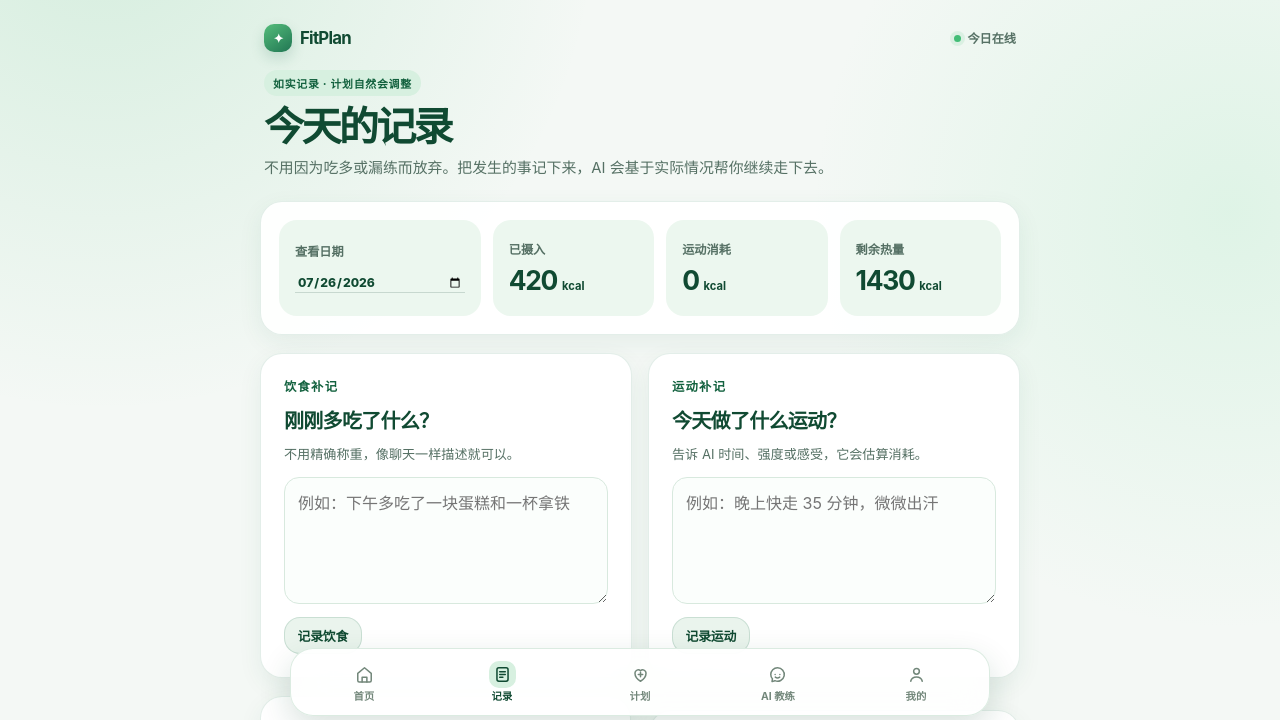
Test: RecordsPage › adds an exercise from natural language and refreshes the daily totals
The image size is (1280, 720).
Type "晚上快走 35 分钟" into the text box named "补充运动记录".
click(834, 541); type("晚上快走 35 分钟")  # box [672, 477, 996, 604]
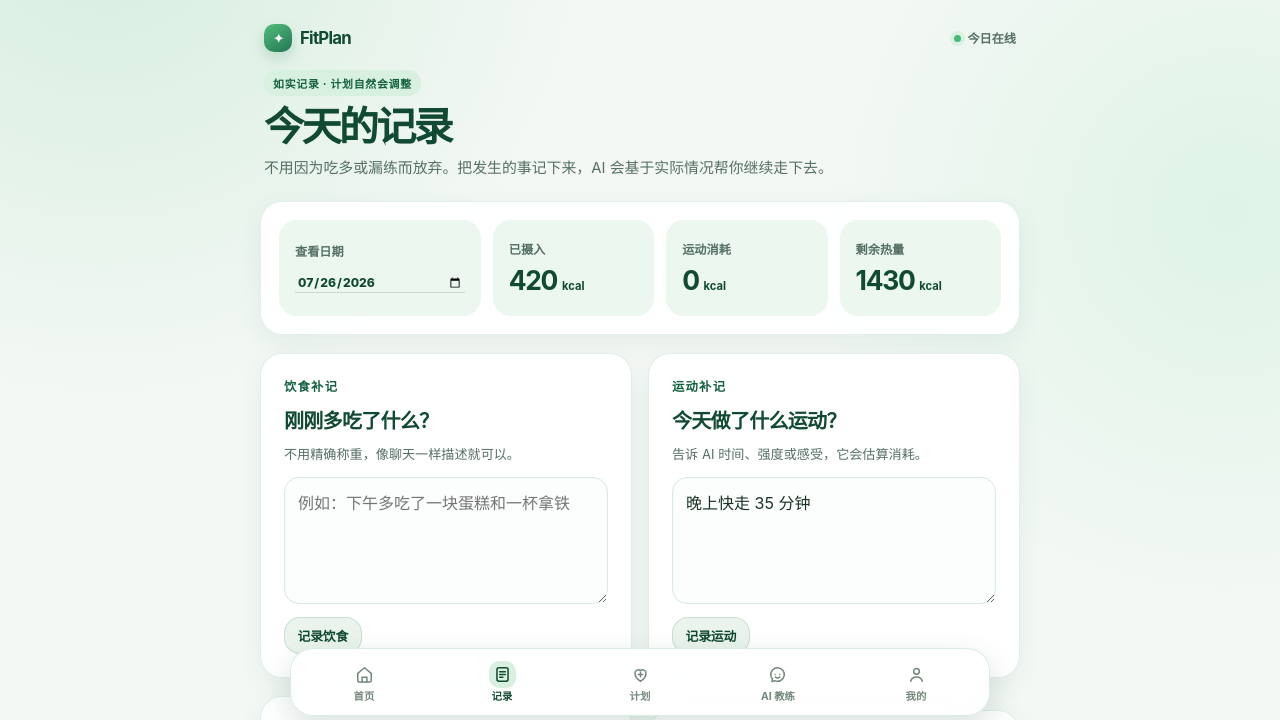
Click the button "记录运动".
click(711, 636)  # box [672, 618, 750, 654]
(page scrolled)
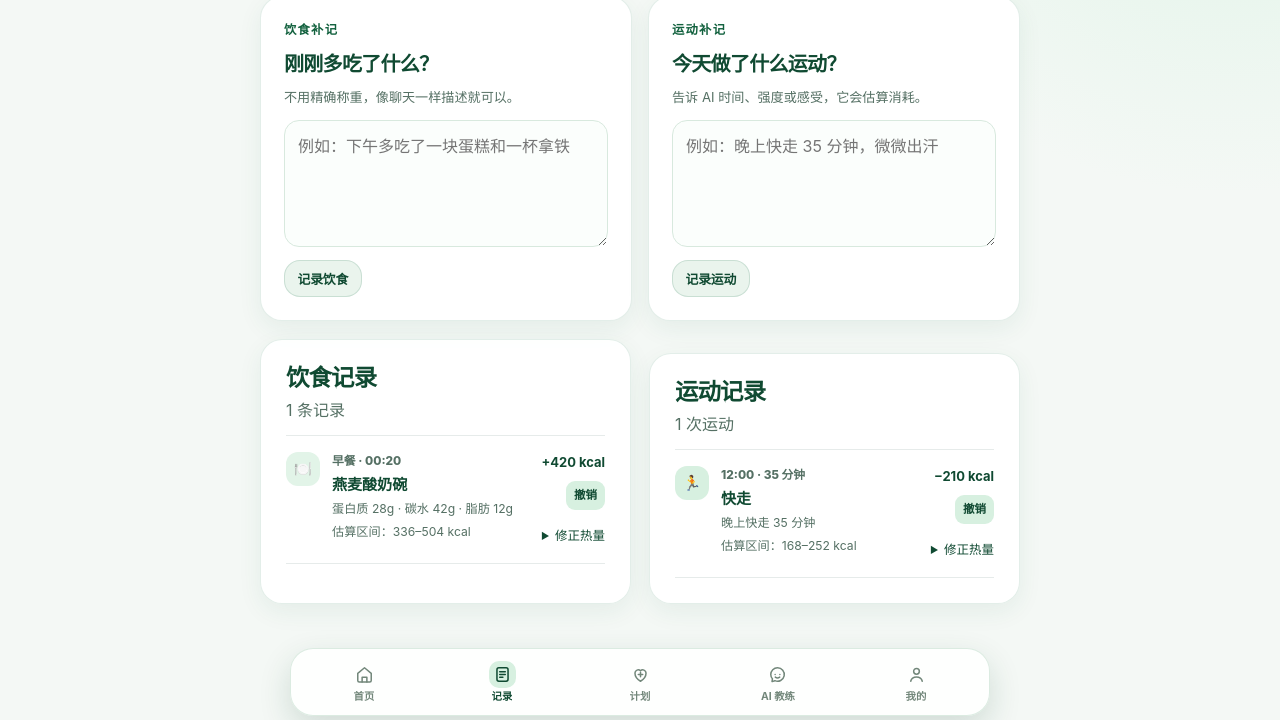
Expected: the heading "快走" is shown, [721, 489, 751, 508]
